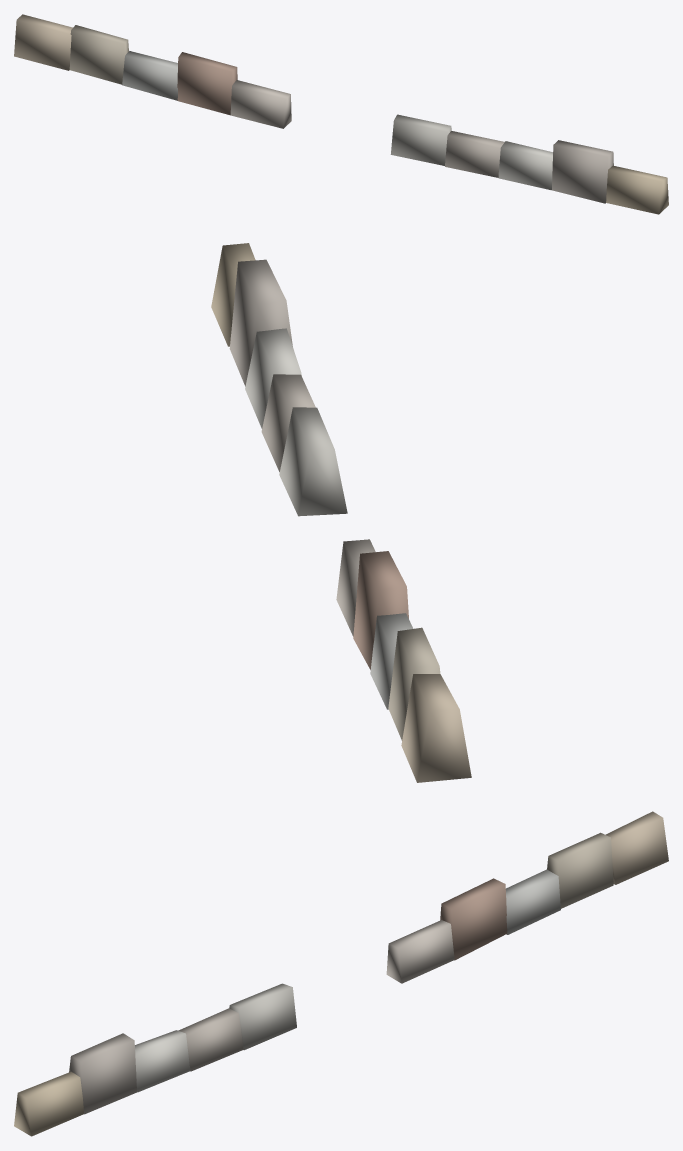
File: farm_21_20_far.glb
The picture shows the model from 3 angles, top to bottom: view 1: azimuth 30°, elevation 25°; view 2: azimuth 150°, elevation 25°; view 3: azimuth 270°, elevation 25°; orthographic projection. The views are drawn at different scales.
Parts seen in each view (by area): view 1: geometry_0; view 2: geometry_0; view 3: geometry_0.
Boxes of the visible parts, x1,y1,x2,y2 form: geometry_0: [14, 14, 668, 214]; geometry_0: [211, 243, 471, 782]; geometry_0: [14, 811, 668, 1136].
Size of the model in its own units: 12.51 by 2.65 by 15.36.
